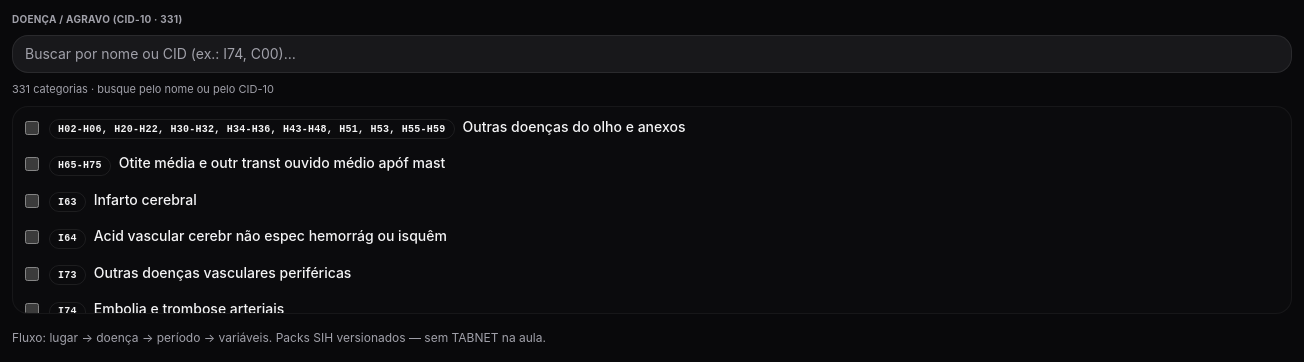
MeasureDiseasePicker — busca por apelido (TAX-05) › "tvp" mostra 1 categoria e a tira aparece no singular
In the search field named "Buscar doença": (652, 54) [12,35,1292,73], type "tvp"
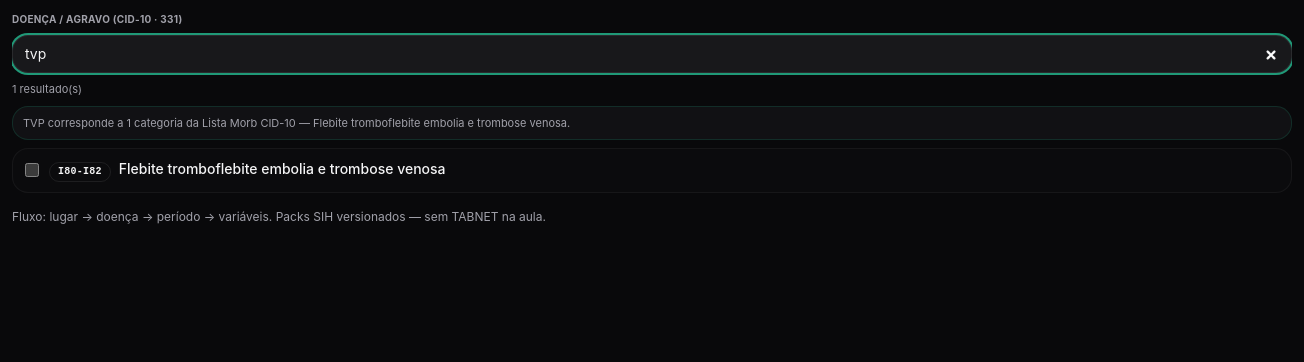
Result: the number of checkboxes is 1 at [25,163,39,177]
Result: the text "Flebite tromboflebite embolia e trombose venosa" is shown at [119,159,446,179]
Result: the message shows "TVP corresponde a 1 categoria" at [23,116,570,130]
